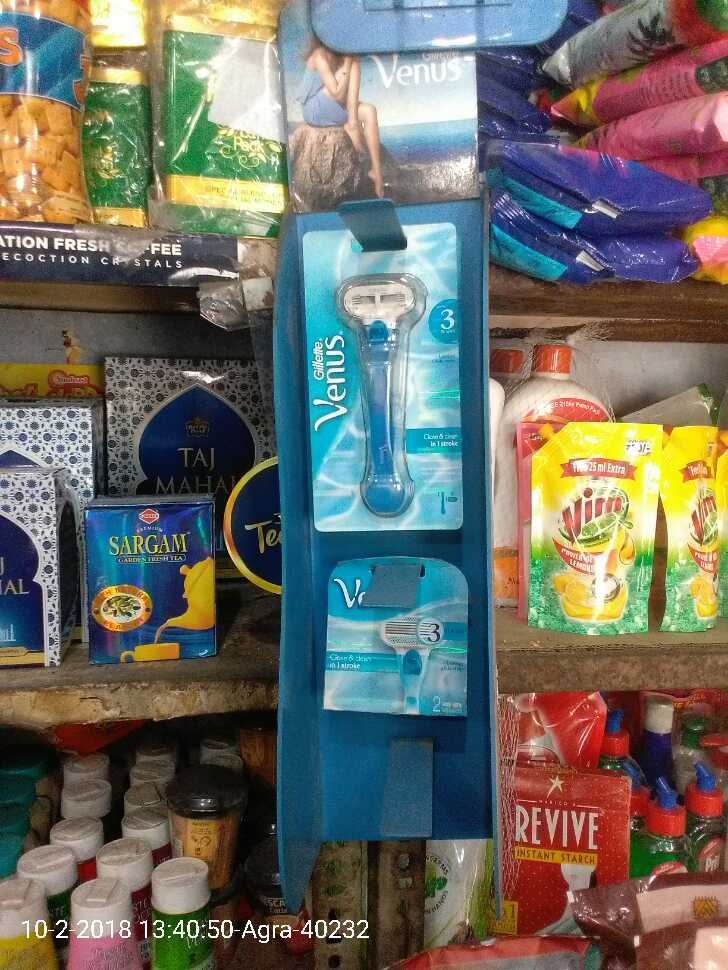venus: (298, 213, 464, 537), (319, 550, 474, 726)
